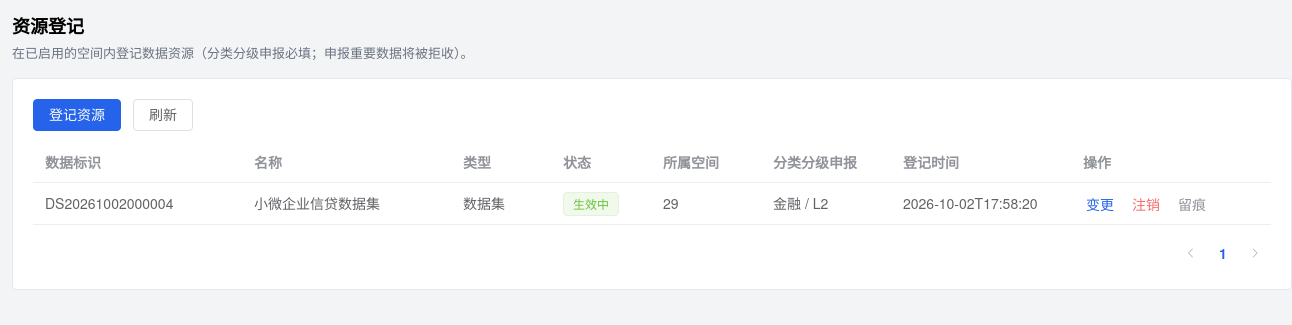
Test case: 我的资源列表（T11 列表面） › 渲染数据标识 / 名称 / 类型中文 / 状态 / 空间 / 分类分级申报 / 登记时间；空态文案
This screenshot has width=1292, height=325.
Click the button with class "refresh-btn" at (163, 115), box [133,99,193,131]
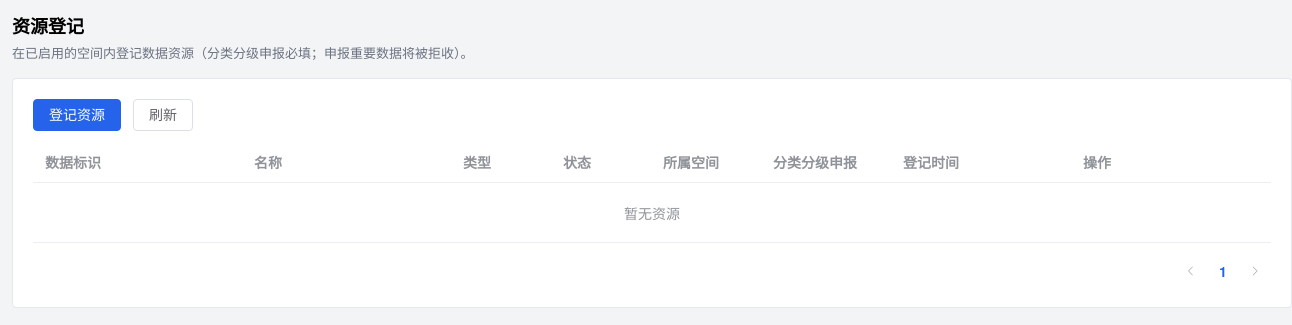
expect the text "暂无资源" is shown: met, box [624,203,680,223]
